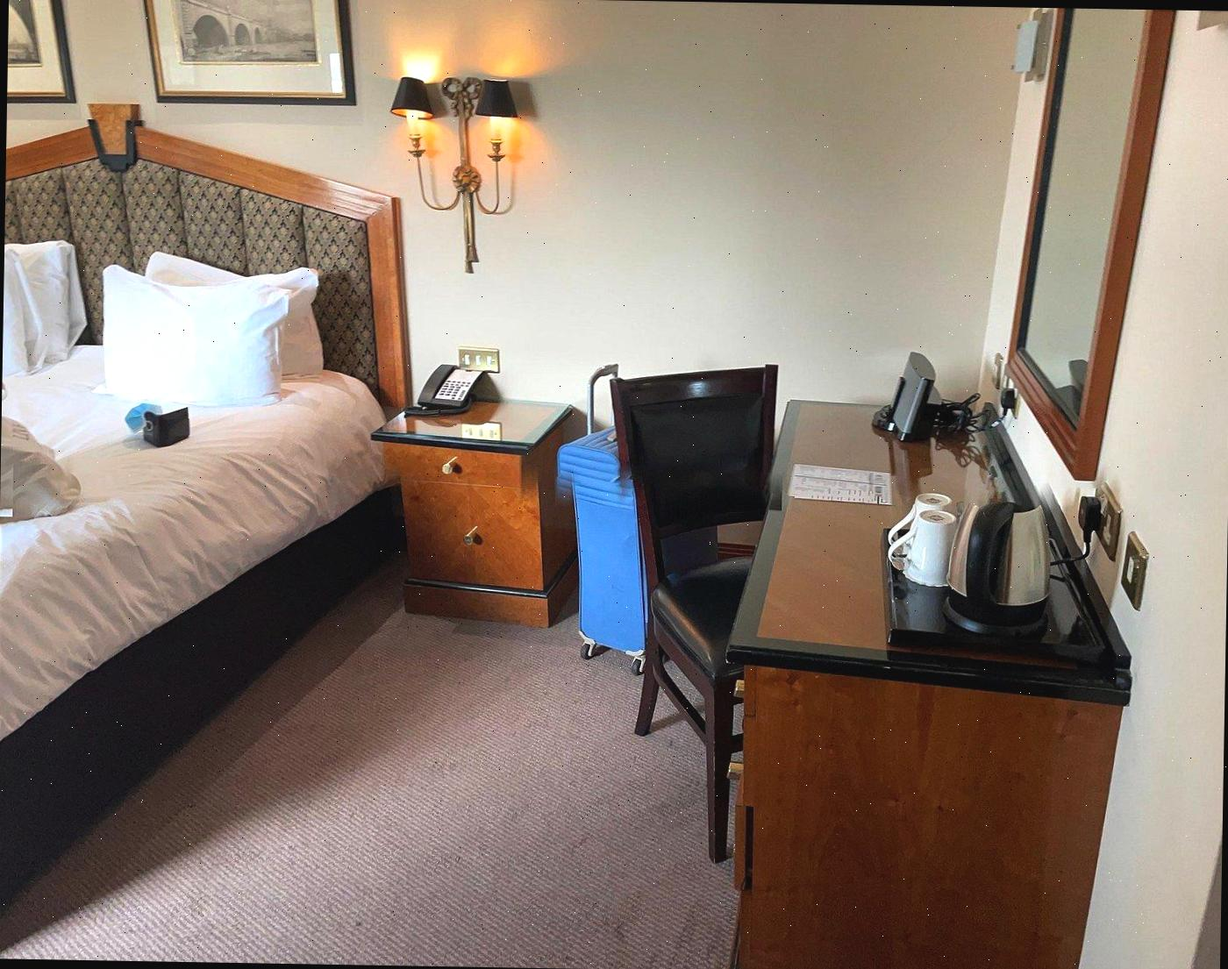chair: (616, 370, 777, 864)
clean_floor: (0, 605, 730, 967)
messy_bed: (0, 104, 401, 901)
organised_pillow: (97, 255, 325, 405)
organized table: (726, 402, 1125, 694), (372, 397, 583, 629)
